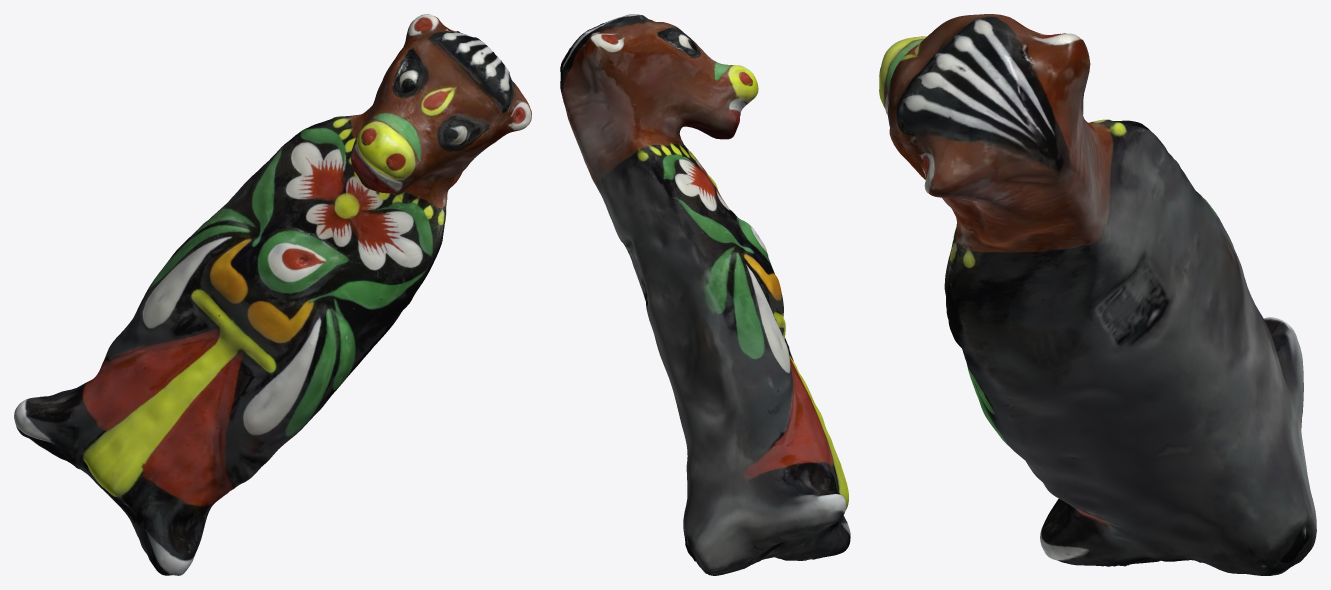
The picture shows the model from 3 angles, left to right: view 1: azimuth 30°, elevation 25°; view 2: azimuth 150°, elevation 25°; view 3: azimuth 270°, elevation 25°; orthographic projection. The views are drawn at different scales.
Bounding box in the file's own units: 0.7449 × 0.8968 × 0.5039.
1 material, 1 textured.
